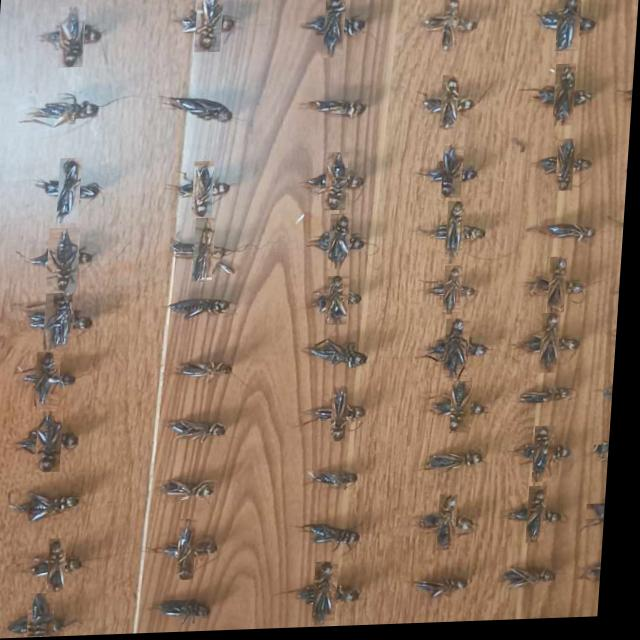no_egg: (47, 283, 78, 352), (50, 228, 81, 294), (27, 99, 100, 127), (18, 494, 86, 522), (164, 98, 234, 124), (311, 342, 373, 371), (320, 564, 345, 630), (59, 159, 84, 224), (42, 411, 67, 473), (59, 6, 84, 68), (448, 323, 472, 385), (195, 0, 222, 54), (39, 353, 64, 410), (554, 68, 576, 131), (323, 0, 346, 60), (172, 300, 237, 321), (556, 0, 580, 56), (195, 220, 216, 284), (327, 155, 349, 213), (311, 527, 368, 549), (194, 162, 215, 219), (448, 205, 467, 267), (455, 381, 476, 437), (538, 431, 559, 486), (443, 147, 464, 202), (331, 217, 352, 272), (35, 594, 61, 638), (533, 491, 553, 547), (174, 421, 232, 440), (551, 262, 571, 317), (535, 228, 599, 245), (440, 80, 460, 134), (329, 279, 351, 328), (445, 498, 464, 554), (544, 318, 562, 377), (510, 571, 563, 591), (184, 520, 201, 582), (161, 602, 218, 620), (308, 102, 368, 119), (177, 364, 237, 381), (421, 583, 476, 601), (432, 456, 490, 473), (54, 540, 72, 593), (446, 271, 466, 318), (168, 482, 220, 500), (524, 392, 579, 409), (442, 0, 459, 55), (559, 142, 576, 195), (336, 388, 352, 444), (315, 473, 364, 491), (593, 509, 612, 524), (592, 570, 609, 586), (599, 449, 615, 462), (608, 393, 618, 401)
